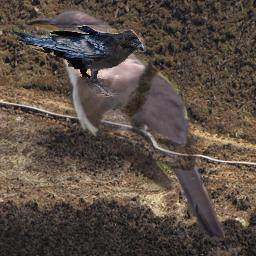Crow: (10, 25, 146, 97)
Cuckoo: (23, 4, 225, 246)
